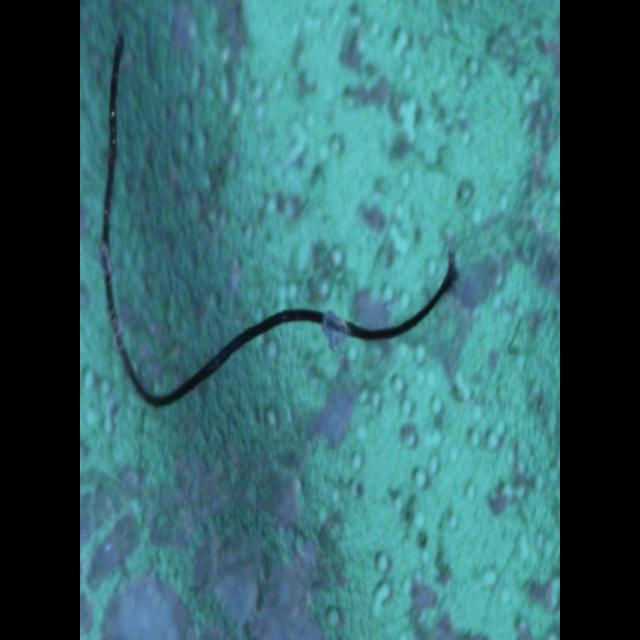Fibre: (98, 26, 458, 408)
